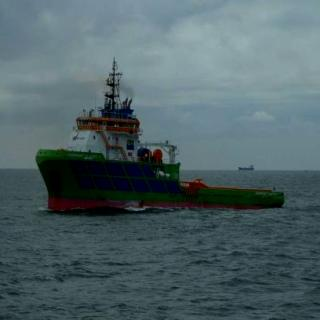Tug Boat: (39, 50, 257, 210)
